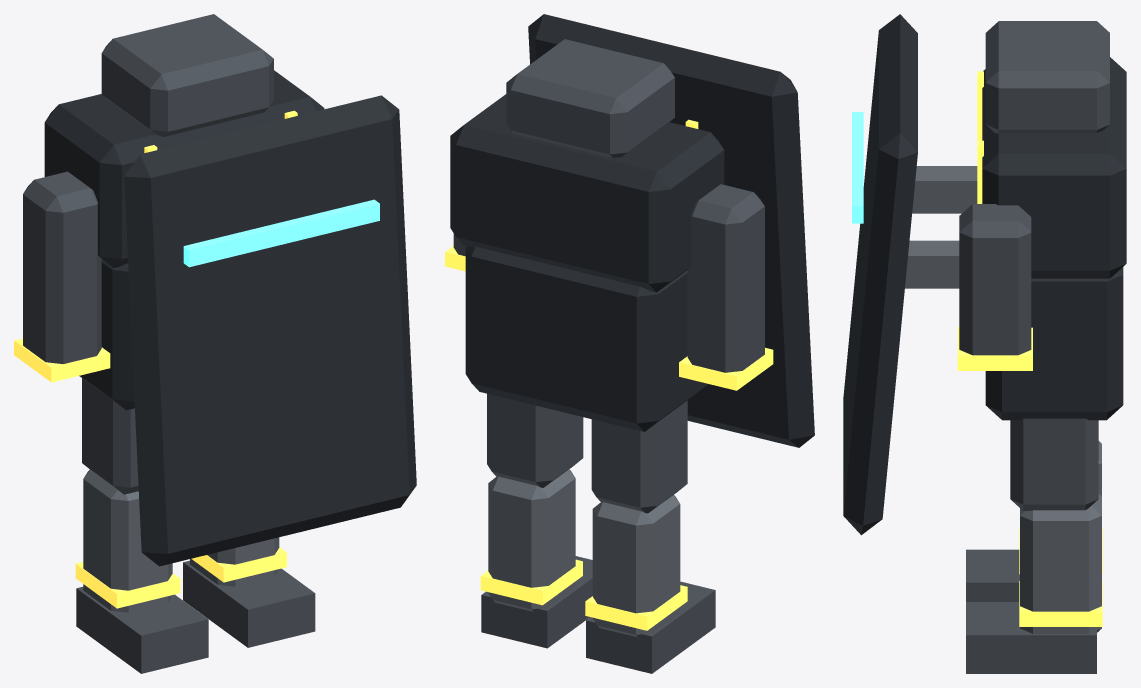
The model's file is Modle_Enemy_Shield.fbx.
The picture shows the model from 3 angles, left to right: view 1: azimuth 30°, elevation 25°; view 2: azimuth 150°, elevation 25°; view 3: azimuth 270°, elevation 25°; orthographic projection. The views are drawn at different scales.
Parts seen in each view (by area): view 1: Modle_Enemy_Shield; view 2: Modle_Enemy_Shield; view 3: Modle_Enemy_Shield.
Part boxes in pixels (<box>): Modle_Enemy_Shield: <box>14,14,416,673</box>; Modle_Enemy_Shield: <box>445,14,814,673</box>; Modle_Enemy_Shield: <box>843,14,1126,673</box>.
Size of the model in its own units: 1.13 by 1.97 by 0.8638.
